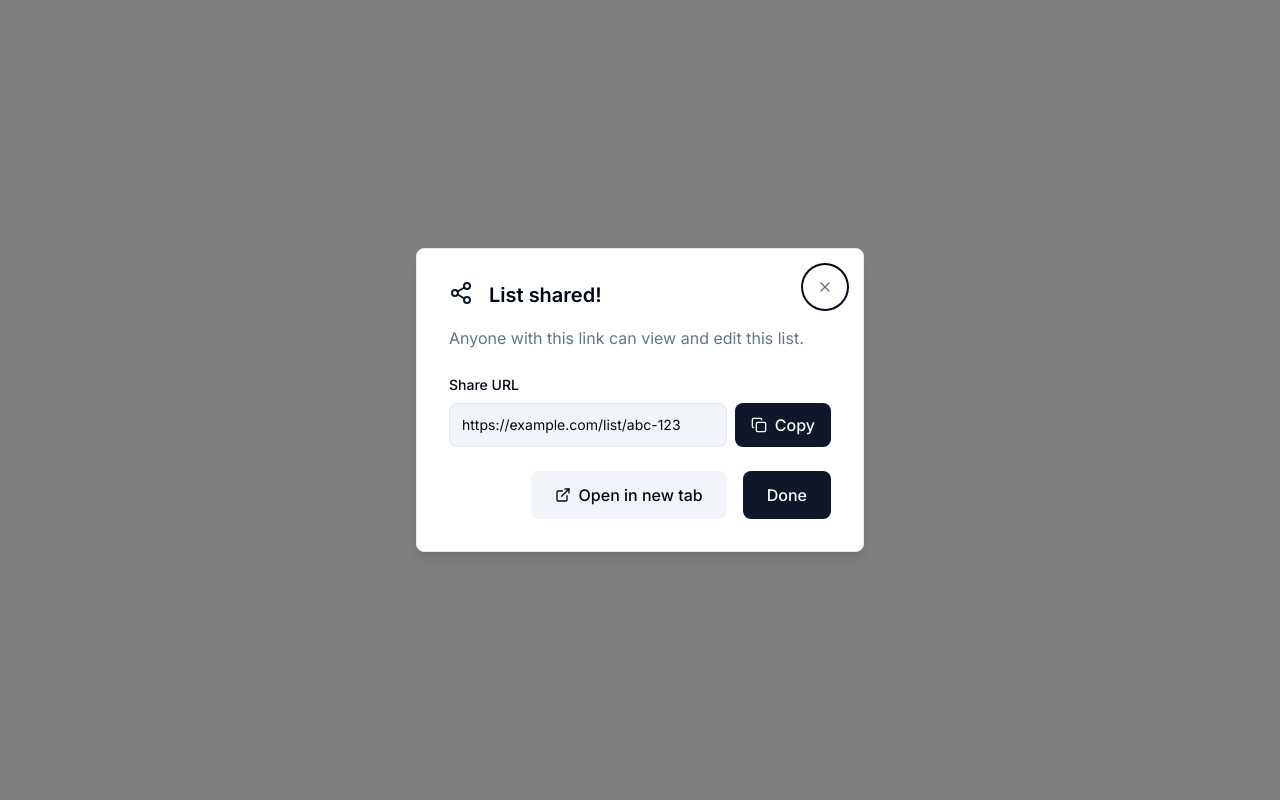
ShareDialog › copy functionality › shows copied feedback after successful copy
Click the button with aria-label "copy url" at (783, 425), box [735,403,831,447]
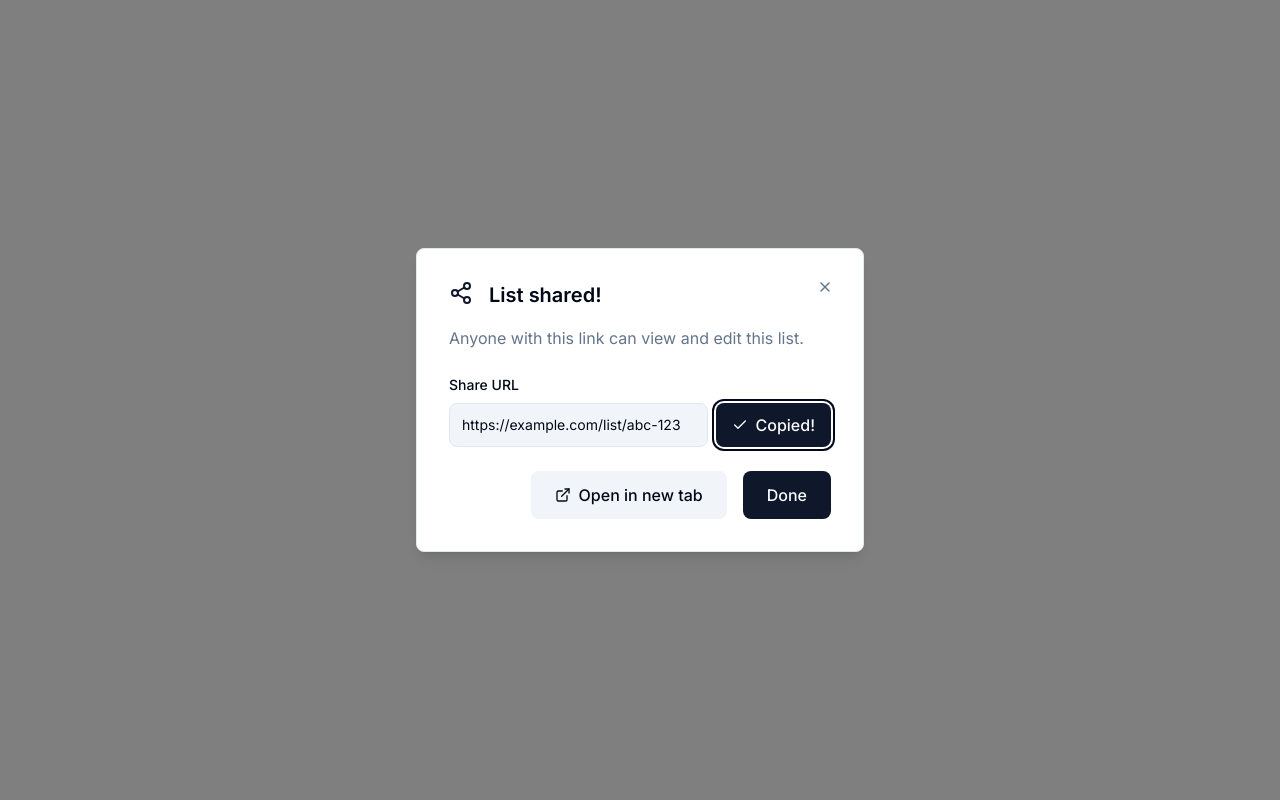
Expected: the button with aria-label "copied to clipboard" is shown, [716,403,831,447]
